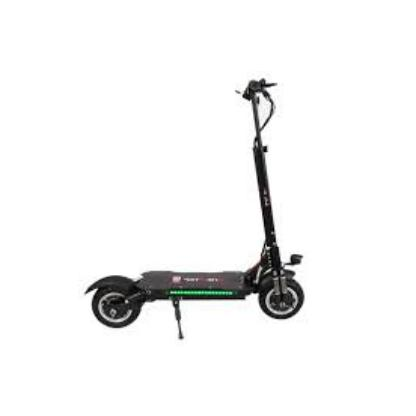bike: (83, 81, 306, 340)
